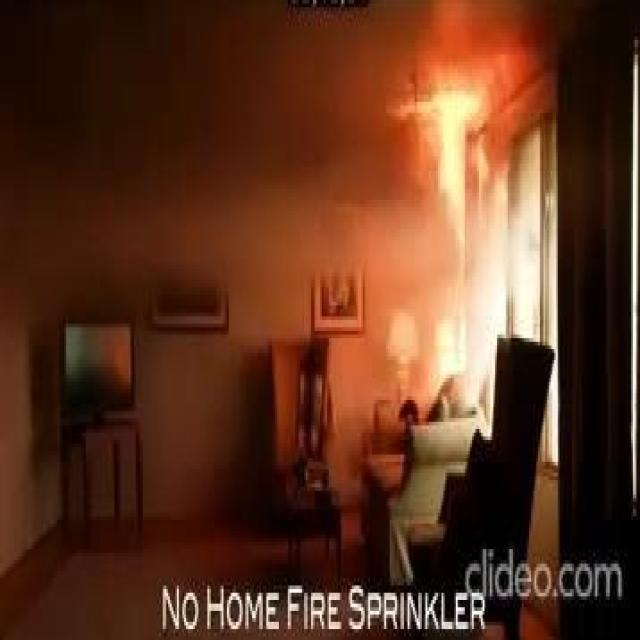smoke: (409, 84, 466, 258), (432, 298, 464, 375)
